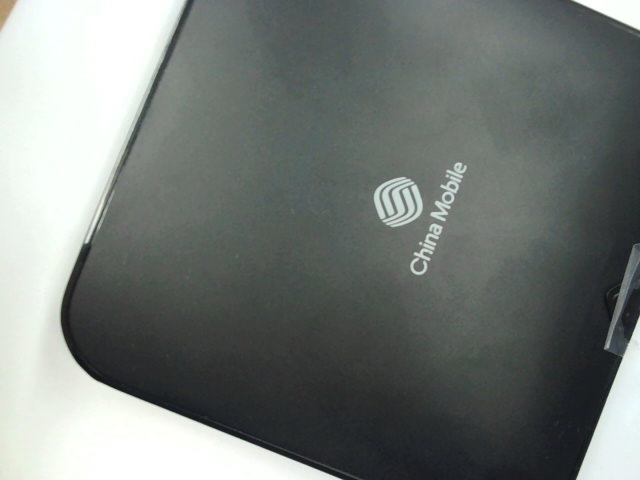AA_ChinaMobile: (358, 142, 487, 278)
